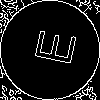E: (25, 25, 77, 68)
